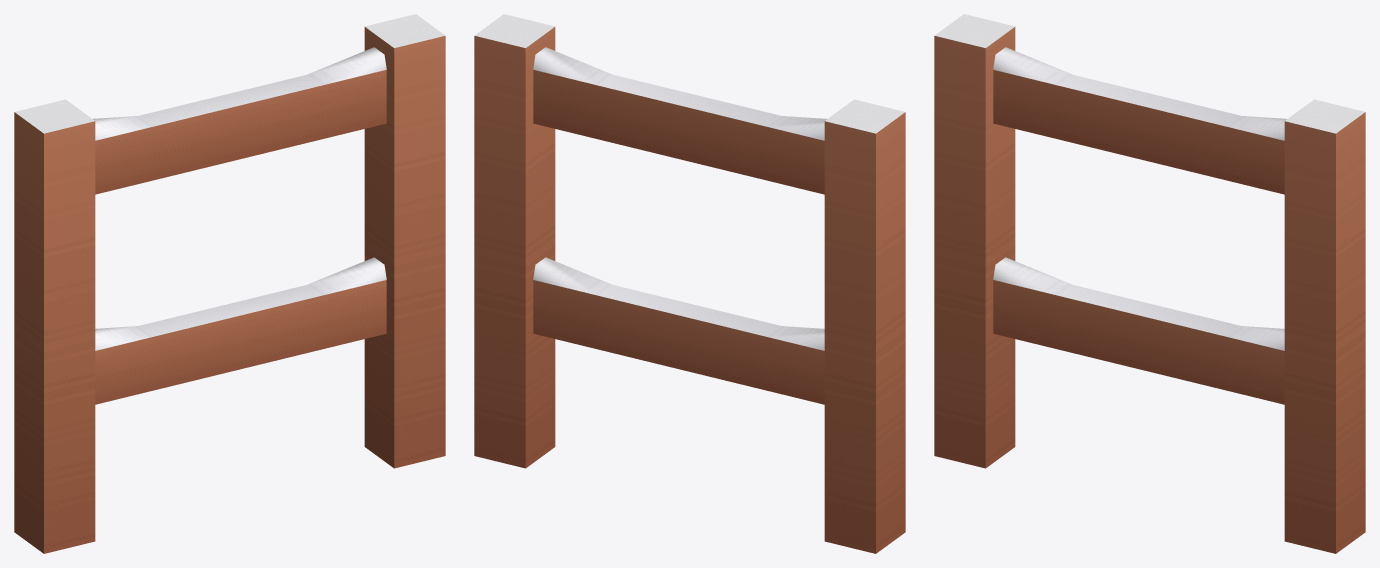
Rendered from snow-wood-structure-high-part.glb.
3 renders of one model, left to right at view 1: azimuth 30°, elevation 25°; view 2: azimuth 150°, elevation 25°; view 3: azimuth 330°, elevation 25°, orthographic.
Parts seen in each view (by area): view 1: snow-wood-structure-high-part; view 2: snow-wood-structure-high-part; view 3: snow-wood-structure-high-part.
Boxes of the visible parts, bbox=[...] form: snow-wood-structure-high-part: bbox=[14, 14, 445, 553]; snow-wood-structure-high-part: bbox=[474, 14, 905, 553]; snow-wood-structure-high-part: bbox=[934, 14, 1365, 553].
Size of the model in its own units: 1 by 1 by 0.128.
Materials: 1 (1 with a texture image).
